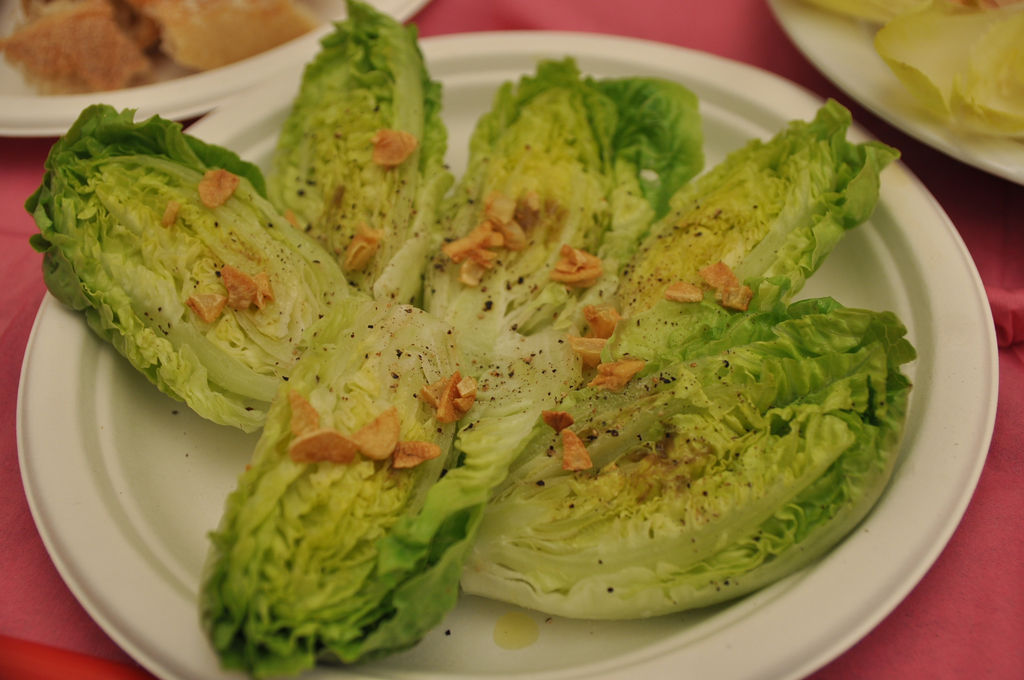Cabbage: (24, 1, 915, 679)
